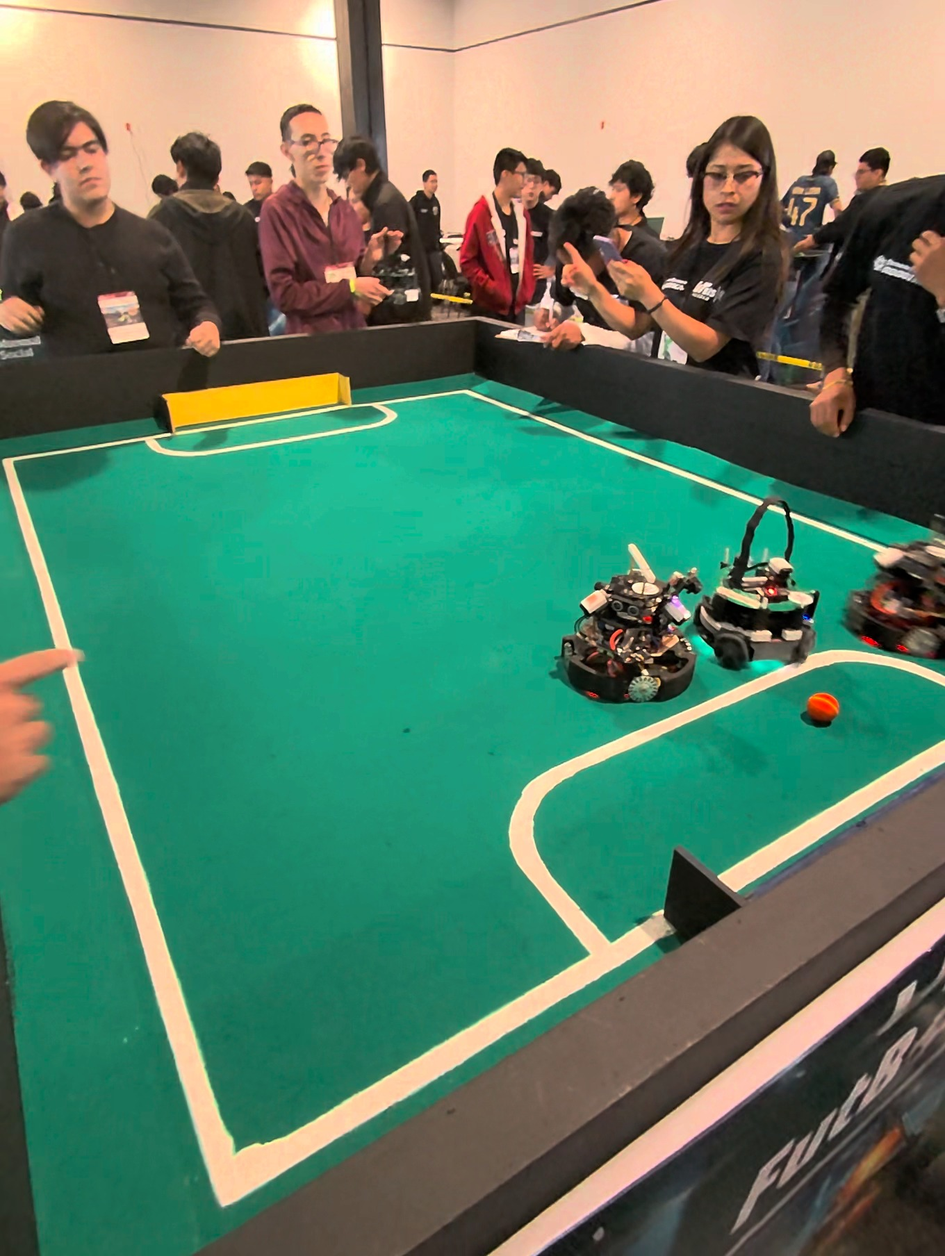Robot: (669, 498, 834, 672), (544, 544, 704, 693), (836, 484, 945, 663)
pelota: (802, 688, 843, 727)
